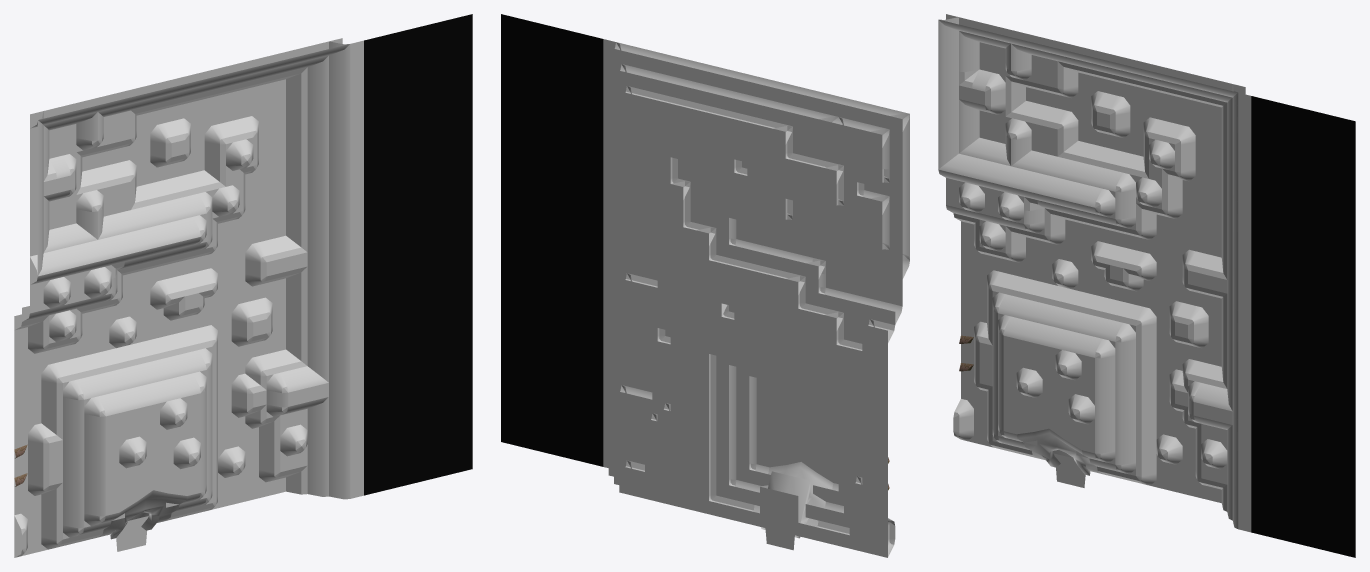
Rendered from Voltic-Cave_03_03.obj.
3 renders of one model, left to right at view 1: azimuth 30°, elevation 25°; view 2: azimuth 150°, elevation 25°; view 3: azimuth 330°, elevation 25°, orthographic. The views are drawn at different scales.
Parts seen in each view (by area): view 1: map; view 2: map; view 3: map.
Boxes of the visible parts, x1,y1,x2,y2 form: map: [14, 14, 472, 557]; map: [501, 14, 909, 557]; map: [938, 14, 1355, 557].
Bounding box in the file's own units: 32 × 33.25 × 4.
